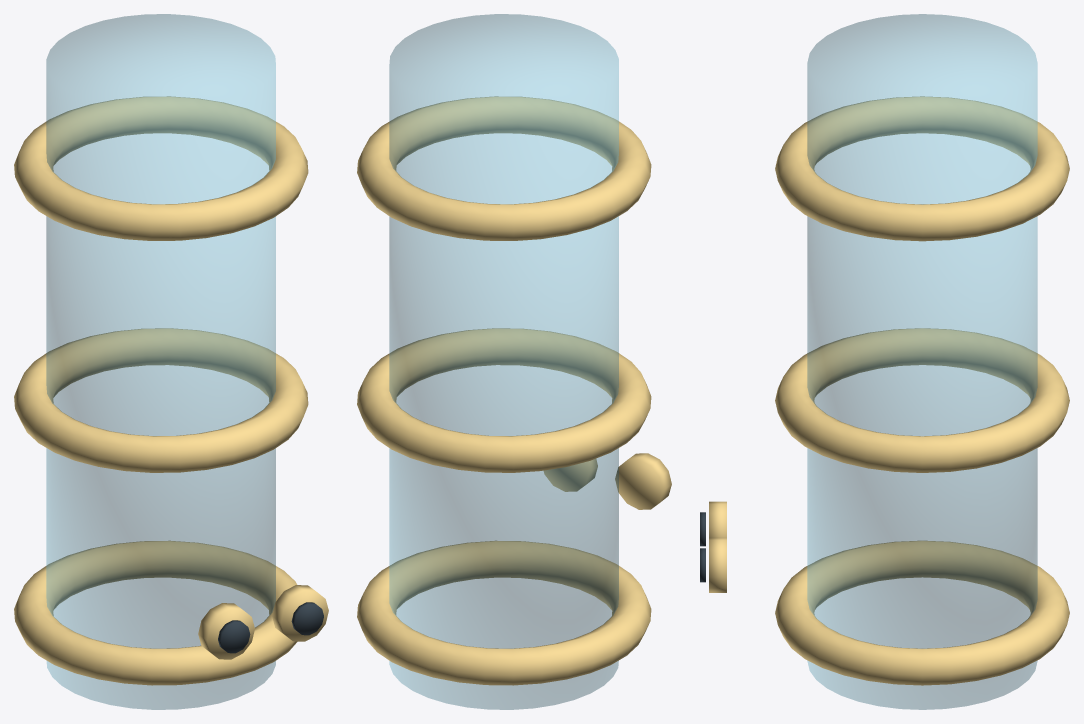
The model's file is 51_L92_CoreRetentionSleeve.glb.
3 renders of one model, left to right at view 1: azimuth 30°, elevation 25°; view 2: azimuth 150°, elevation 25°; view 3: azimuth 270°, elevation 25°, orthographic.
Visible parts, largest first — view 1: L92_CoreRetentionSleeve_Part_0000, L92_CoreRetentionSleeve_Part_0001, L92_CoreRetentionSleeve_Part_0004, L92_CoreRetentionSleeve_Part_0002, L92_CoreRetentionSleeve_Part_0005, L92_CoreRetentionSleeve_Part_0003; view 2: L92_CoreRetentionSleeve_Part_0000, L92_CoreRetentionSleeve_Part_0001, L92_CoreRetentionSleeve_Part_0002, L92_CoreRetentionSleeve_Part_0004; view 3: L92_CoreRetentionSleeve_Part_0000, L92_CoreRetentionSleeve_Part_0001, L92_CoreRetentionSleeve_Part_0004, L92_CoreRetentionSleeve_Part_0002.
Boxes of the visible parts, x1=… form: L92_CoreRetentionSleeve_Part_0000: x1=46, y1=14, x2=275, y2=709; L92_CoreRetentionSleeve_Part_0001: x1=14, y1=96, x2=308, y2=685; L92_CoreRetentionSleeve_Part_0004: x1=272, y1=585, x2=328, y2=641; L92_CoreRetentionSleeve_Part_0002: x1=198, y1=603, x2=254, y2=659; L92_CoreRetentionSleeve_Part_0005: x1=291, y1=602, x2=323, y2=635; L92_CoreRetentionSleeve_Part_0003: x1=218, y1=620, x2=250, y2=653; L92_CoreRetentionSleeve_Part_0000: x1=389, y1=14, x2=618, y2=709; L92_CoreRetentionSleeve_Part_0001: x1=357, y1=96, x2=651, y2=685; L92_CoreRetentionSleeve_Part_0002: x1=615, y1=453, x2=671, y2=509; L92_CoreRetentionSleeve_Part_0004: x1=543, y1=459, x2=597, y2=491; L92_CoreRetentionSleeve_Part_0000: x1=807, y1=14, x2=1037, y2=709; L92_CoreRetentionSleeve_Part_0001: x1=775, y1=96, x2=1069, y2=685; L92_CoreRetentionSleeve_Part_0004: x1=709, y1=537, x2=726, y2=592; L92_CoreRetentionSleeve_Part_0002: x1=709, y1=501, x2=726, y2=537.
Size of the model in its own units: 0.692 by 1.55 by 0.868.
